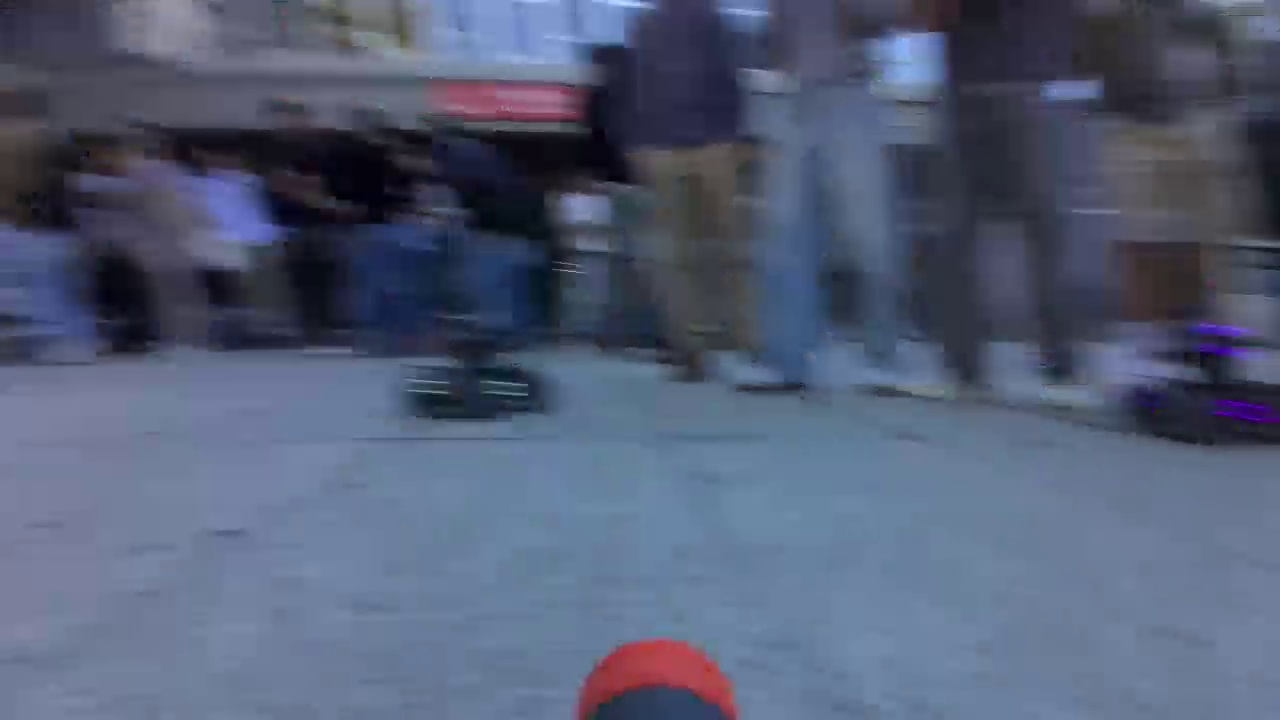robot: (1133, 316, 1280, 448), (401, 312, 558, 422)
